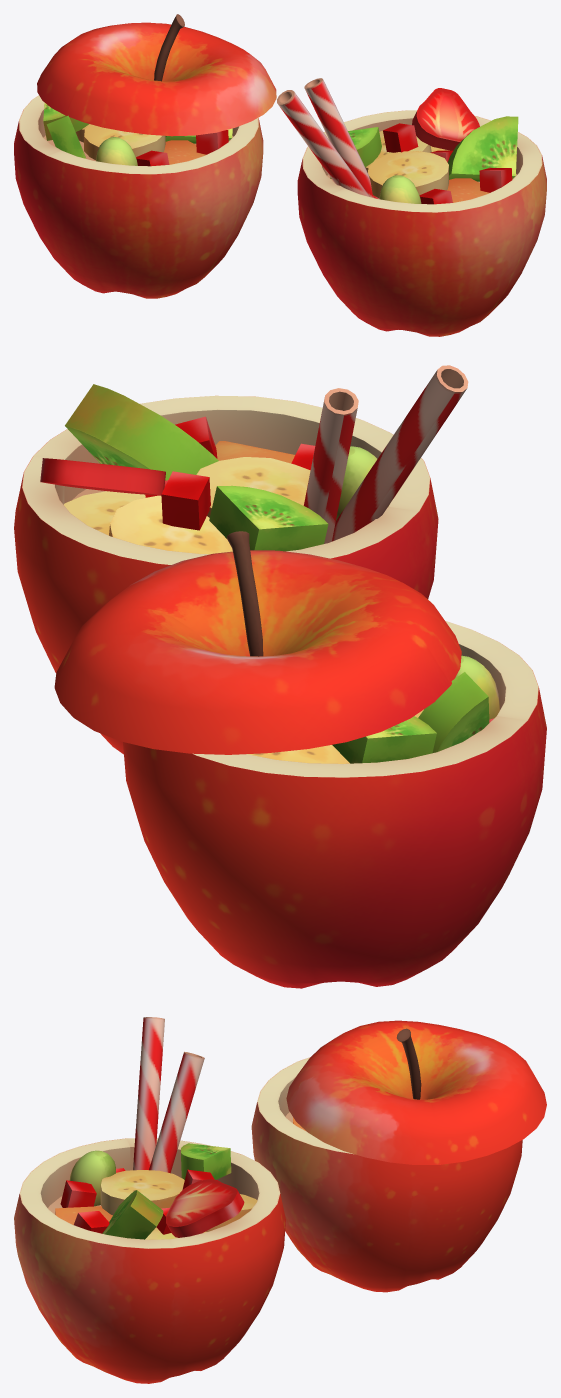
The model's file is Lab_8_apple_fruits_salad .fbx.
3 renders of one model, top to bottom at view 1: azimuth 30°, elevation 25°; view 2: azimuth 150°, elevation 25°; view 3: azimuth 270°, elevation 25°, orthographic. The views are drawn at different scales.
Parts seen in each view (by area): view 1: apple_1, Circle.008, Sphere.005; view 2: Circle.008, apple_1, Sphere.005; view 3: apple_1, Circle.008, Sphere.005.
Boxes of the visible parts, <box> form: apple_1: <box>277,78,546,336</box>; Circle.008: <box>14,95,263,298</box>; Sphere.005: <box>37,14,276,136</box>; Circle.008: <box>123,621,546,988</box>; apple_1: <box>14,365,468,754</box>; Sphere.005: <box>54,531,461,754</box>; apple_1: <box>14,1017,285,1383</box>; Circle.008: <box>251,1057,522,1292</box>; Sphere.005: <box>286,1020,546,1164</box>.
Size of the model in its own units: 4.33 by 2.71 by 4.73.
Materials: 1 (1 with a texture image).
